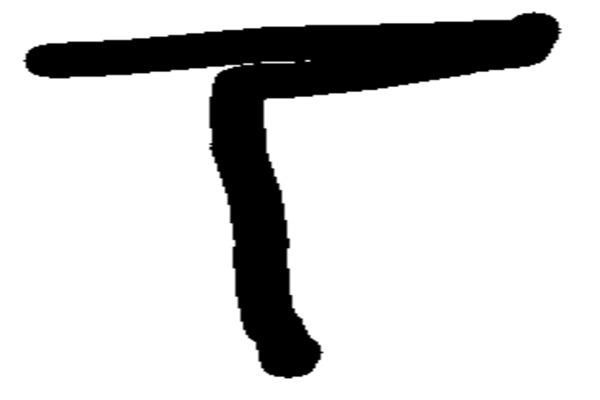T: (20, 6, 564, 388)
